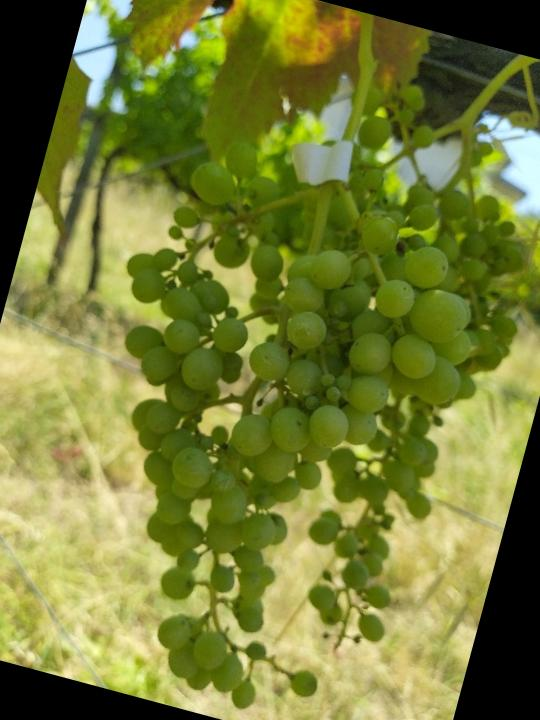grape: (15, 115, 512, 720)
